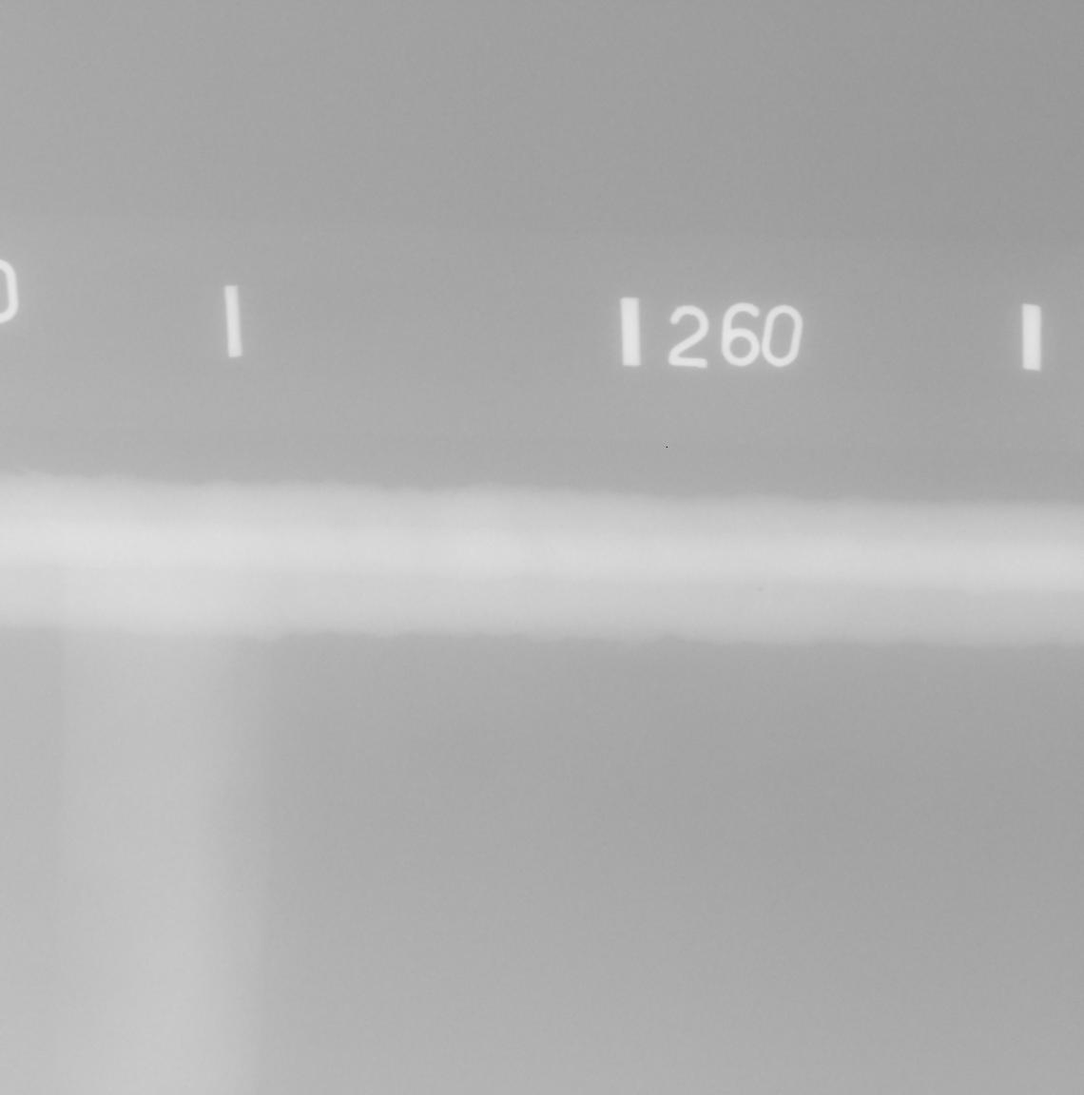Pore/Porosity: (758, 587, 763, 591)
